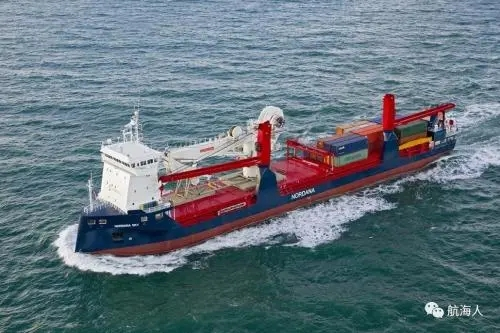Cargoship: (66, 85, 464, 255)
